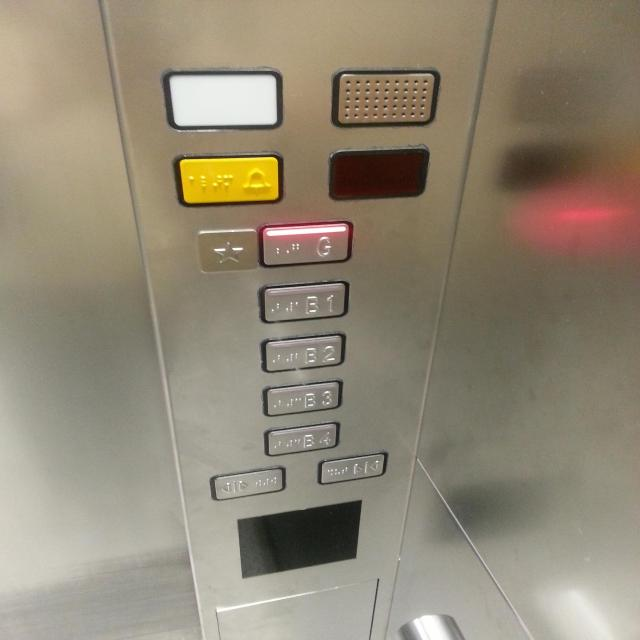B1: (255, 279, 353, 325)
B2: (257, 328, 349, 375)
B3: (258, 376, 345, 418)
B4: (261, 418, 341, 458)
G: (255, 217, 354, 271)
alarm: (170, 150, 285, 210)
close: (316, 449, 388, 486)
empty: (161, 67, 286, 132), (325, 145, 430, 203)
led: (234, 496, 364, 583)
open: (208, 464, 288, 503)
s: (192, 226, 259, 278)
speaker: (329, 67, 440, 129)
